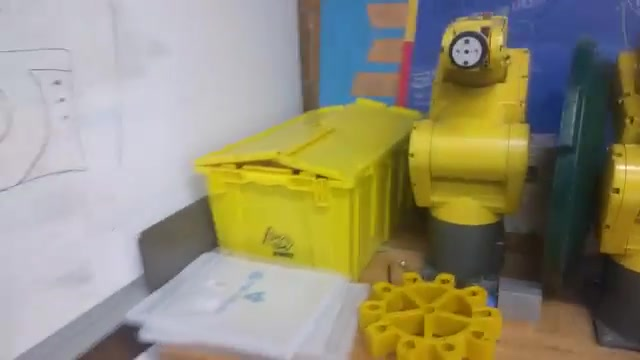gear: (354, 268, 502, 359)
